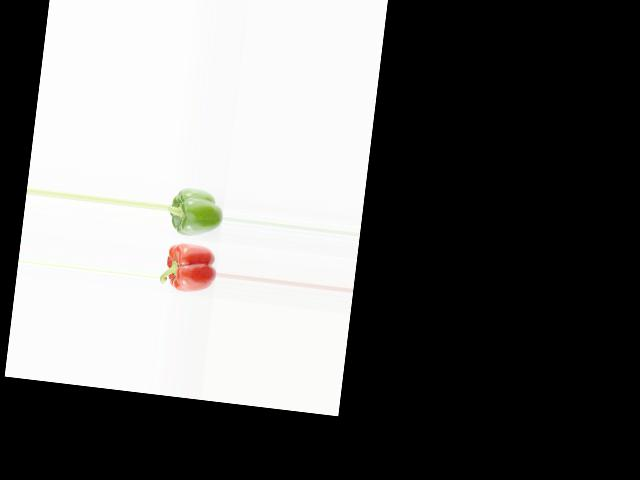bell_pepper: (166, 184, 223, 241)
